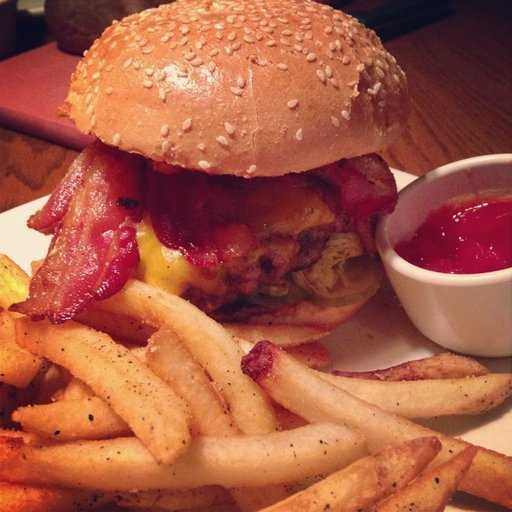hamburger: (65, 5, 390, 338)
